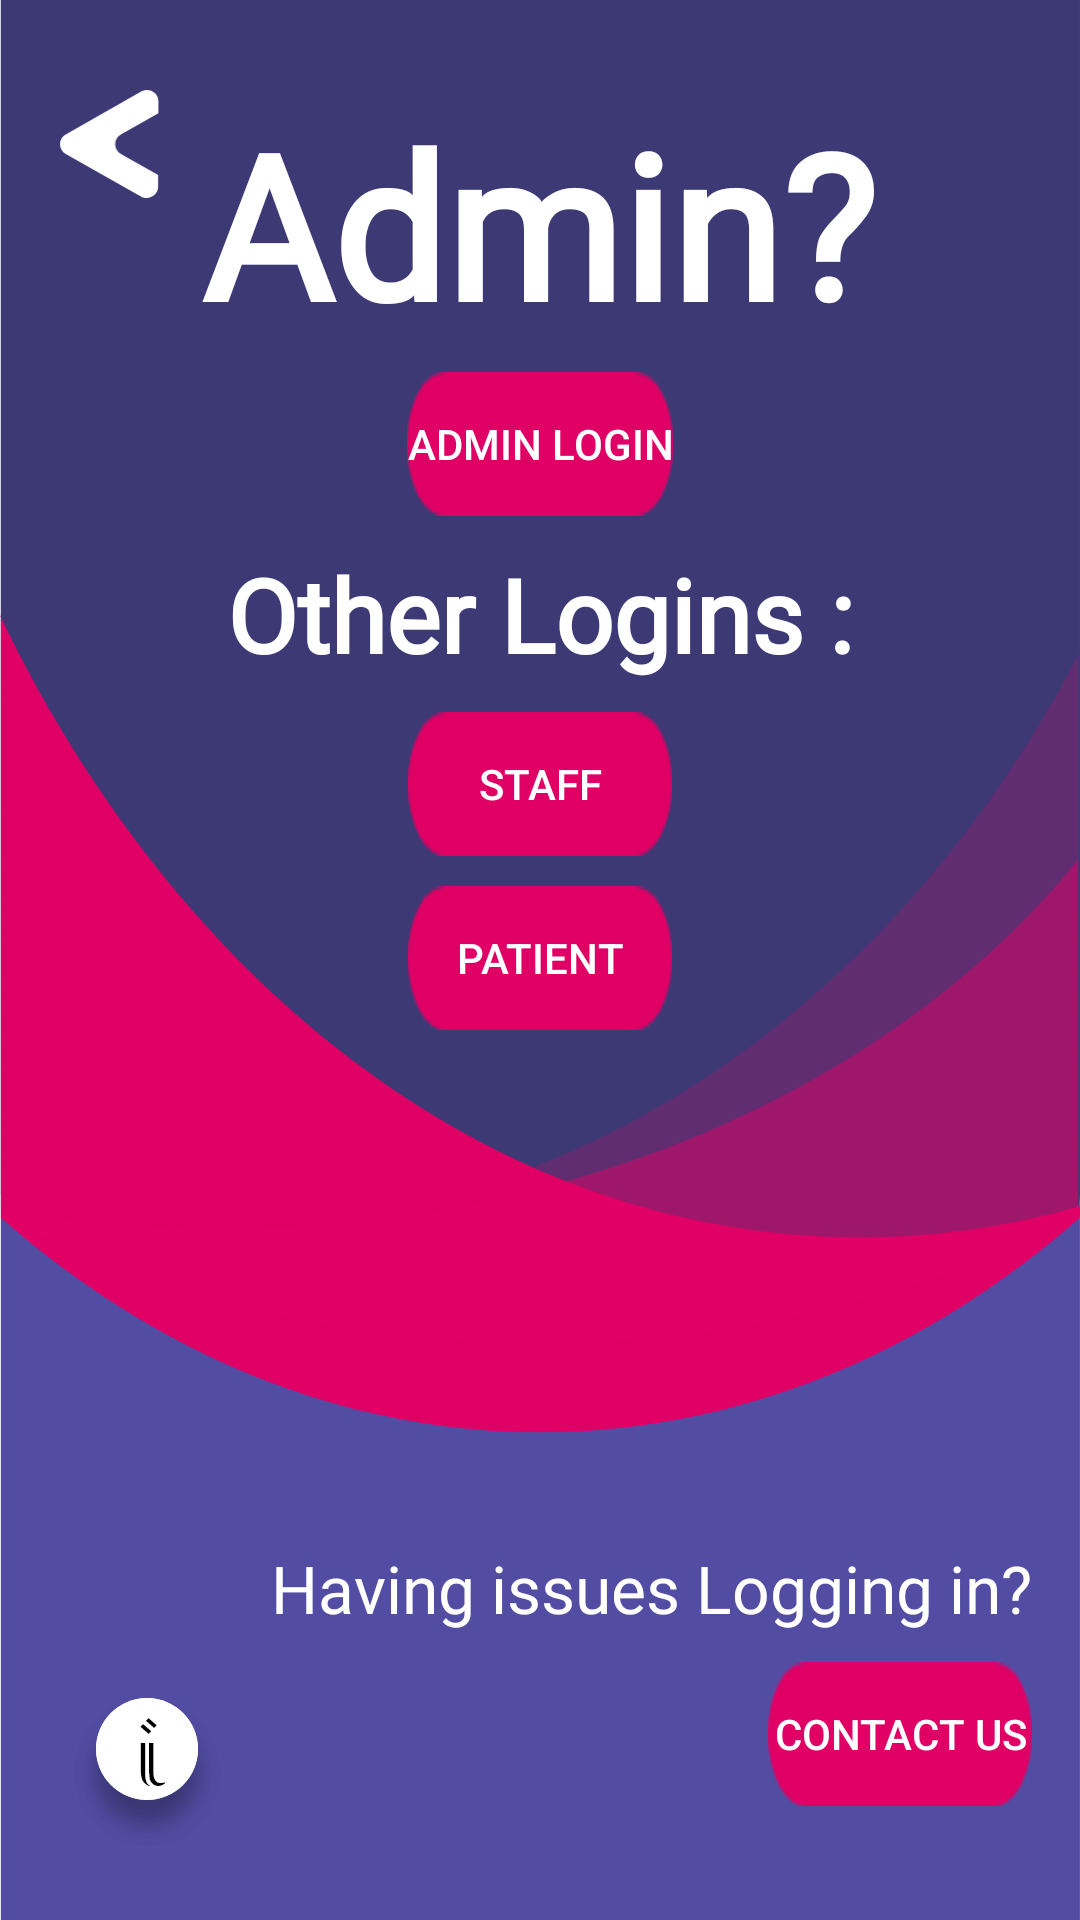

Point at icon controls on the screen. Image size 1080x1920, points as point (x, y).
backbtn: point (109, 144)
Credits Button: point (147, 1761)
